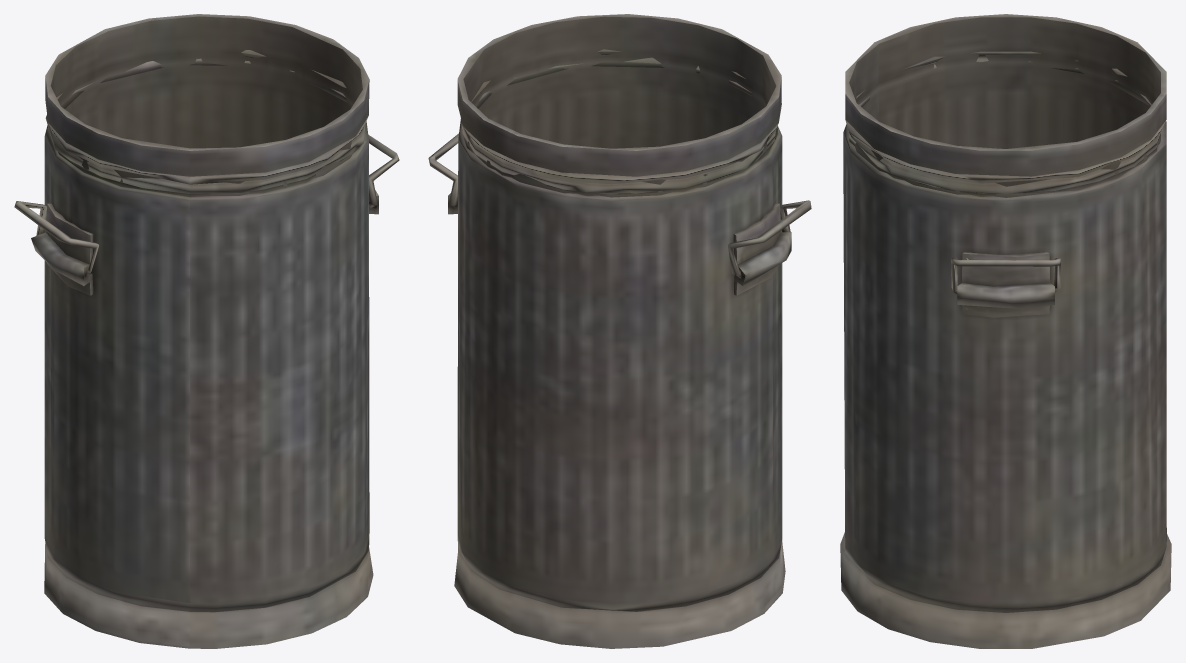
File: metal_trash_can.glb
3 renders of one model, left to right at view 1: azimuth 30°, elevation 25°; view 2: azimuth 150°, elevation 25°; view 3: azimuth 270°, elevation 25°, orthographic.
Visible parts, largest first — view 1: metal_trash_can, metal_trash_can_handle_left, metal_trash_can_handle_right; view 2: metal_trash_can, metal_trash_can_handle_left, metal_trash_can_handle_right; view 3: metal_trash_can, metal_trash_can_handle_right.
Part boxes in pixels (bbox=[...]): metal_trash_can: bbox=[31, 14, 378, 648]; metal_trash_can_handle_left: bbox=[14, 201, 98, 275]; metal_trash_can_handle_right: bbox=[368, 135, 399, 207]; metal_trash_can: bbox=[448, 14, 791, 648]; metal_trash_can_handle_left: bbox=[728, 200, 811, 277]; metal_trash_can_handle_right: bbox=[428, 133, 458, 207]; metal_trash_can: bbox=[840, 14, 1171, 648]; metal_trash_can_handle_right: bbox=[951, 258, 1060, 293].
Size of the model in its own units: 0.6492 by 0.9062 by 0.548.
1 material, 1 textured.
